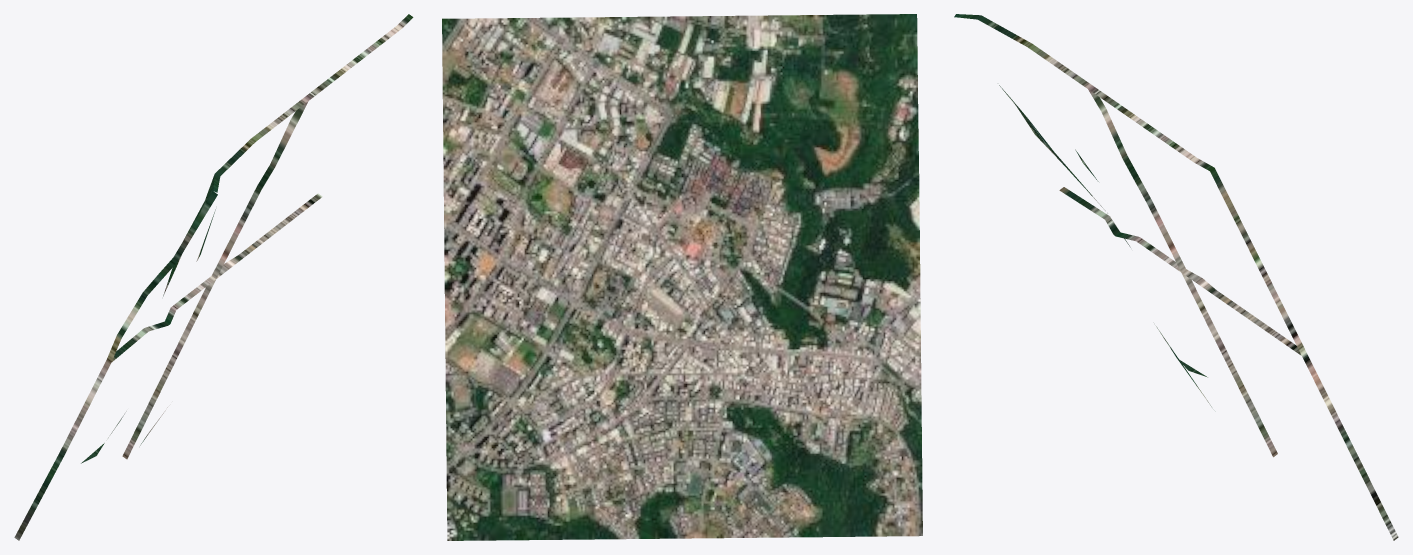
The picture shows the model from 3 angles, left to right: view 1: azimuth 30°, elevation 25°; view 2: azimuth 150°, elevation 25°; view 3: azimuth 270°, elevation 25°; orthographic projection. The views are drawn at different scales.
Size of the model in its own units: 2446 by 2244 by 2144.
Materials: 1 (1 with a texture image).
